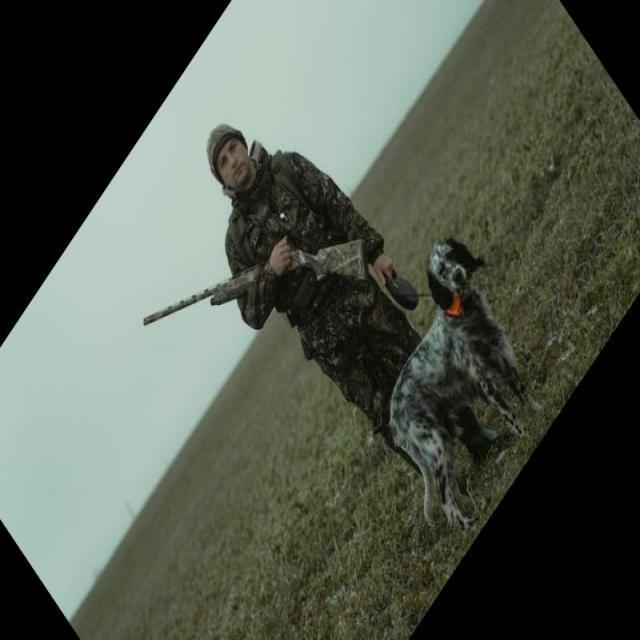weapon: (142, 238, 370, 330)
